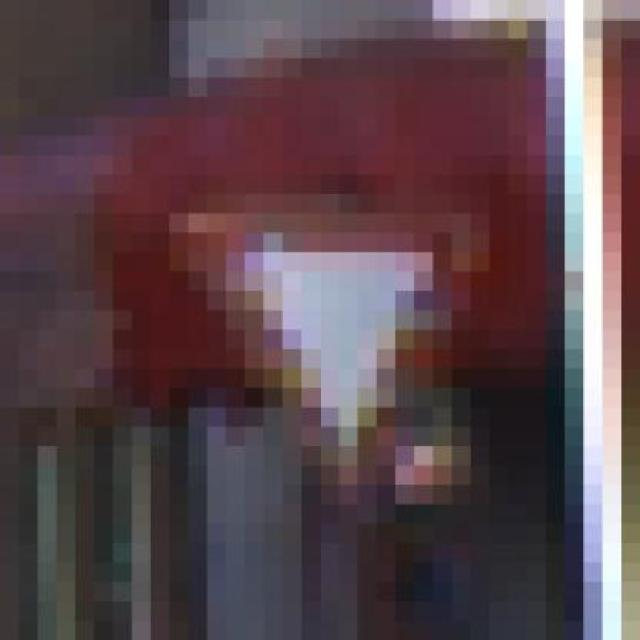Give Way: (112, 156, 546, 602)
